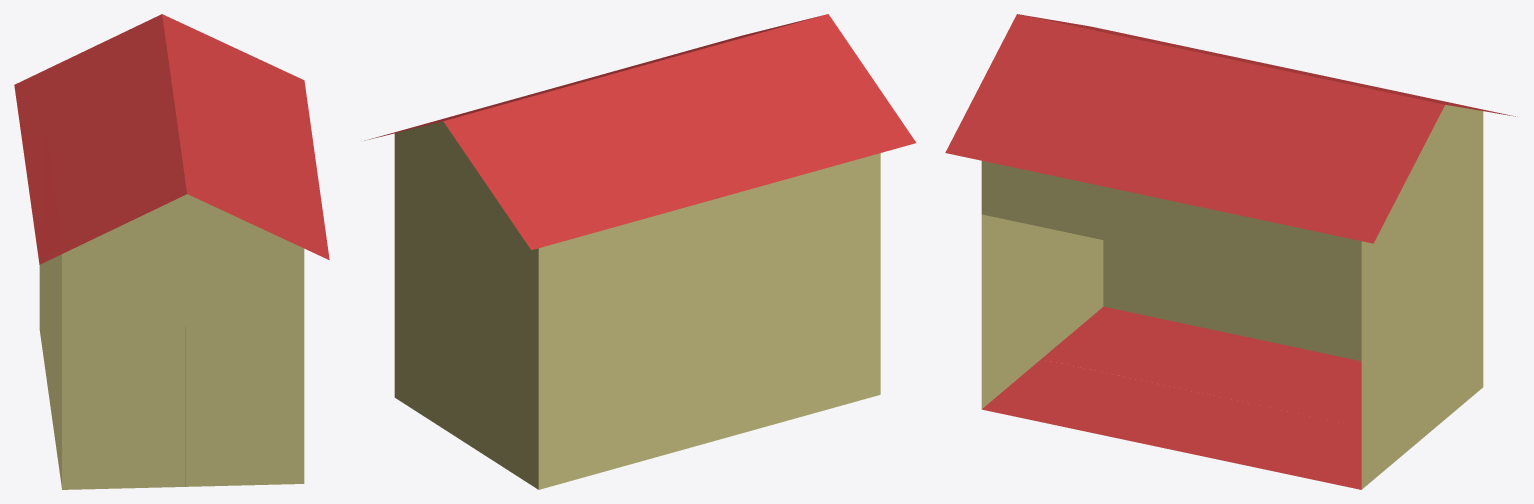
The picture shows the model from 3 angles, left to right: view 1: azimuth 30°, elevation 25°; view 2: azimuth 150°, elevation 25°; view 3: azimuth 270°, elevation 25°; orthographic projection. The views are drawn at different scales.
Bounding box in the file's own units: 14.04 × 15.93 × 10.4.
